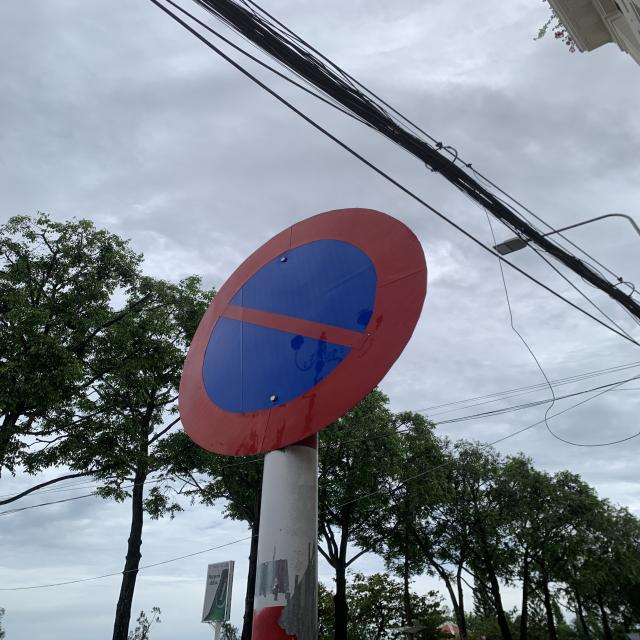Cam_Dau_Xe: (174, 207, 429, 458)
